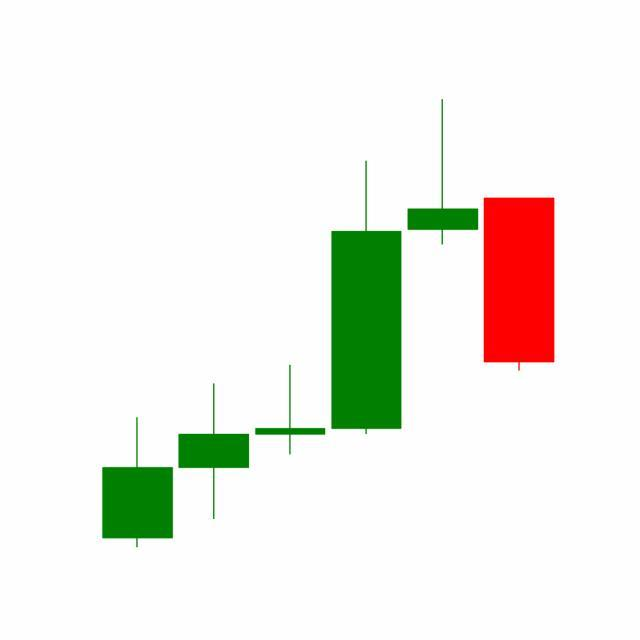Evening Star: (326, 99, 555, 439)
